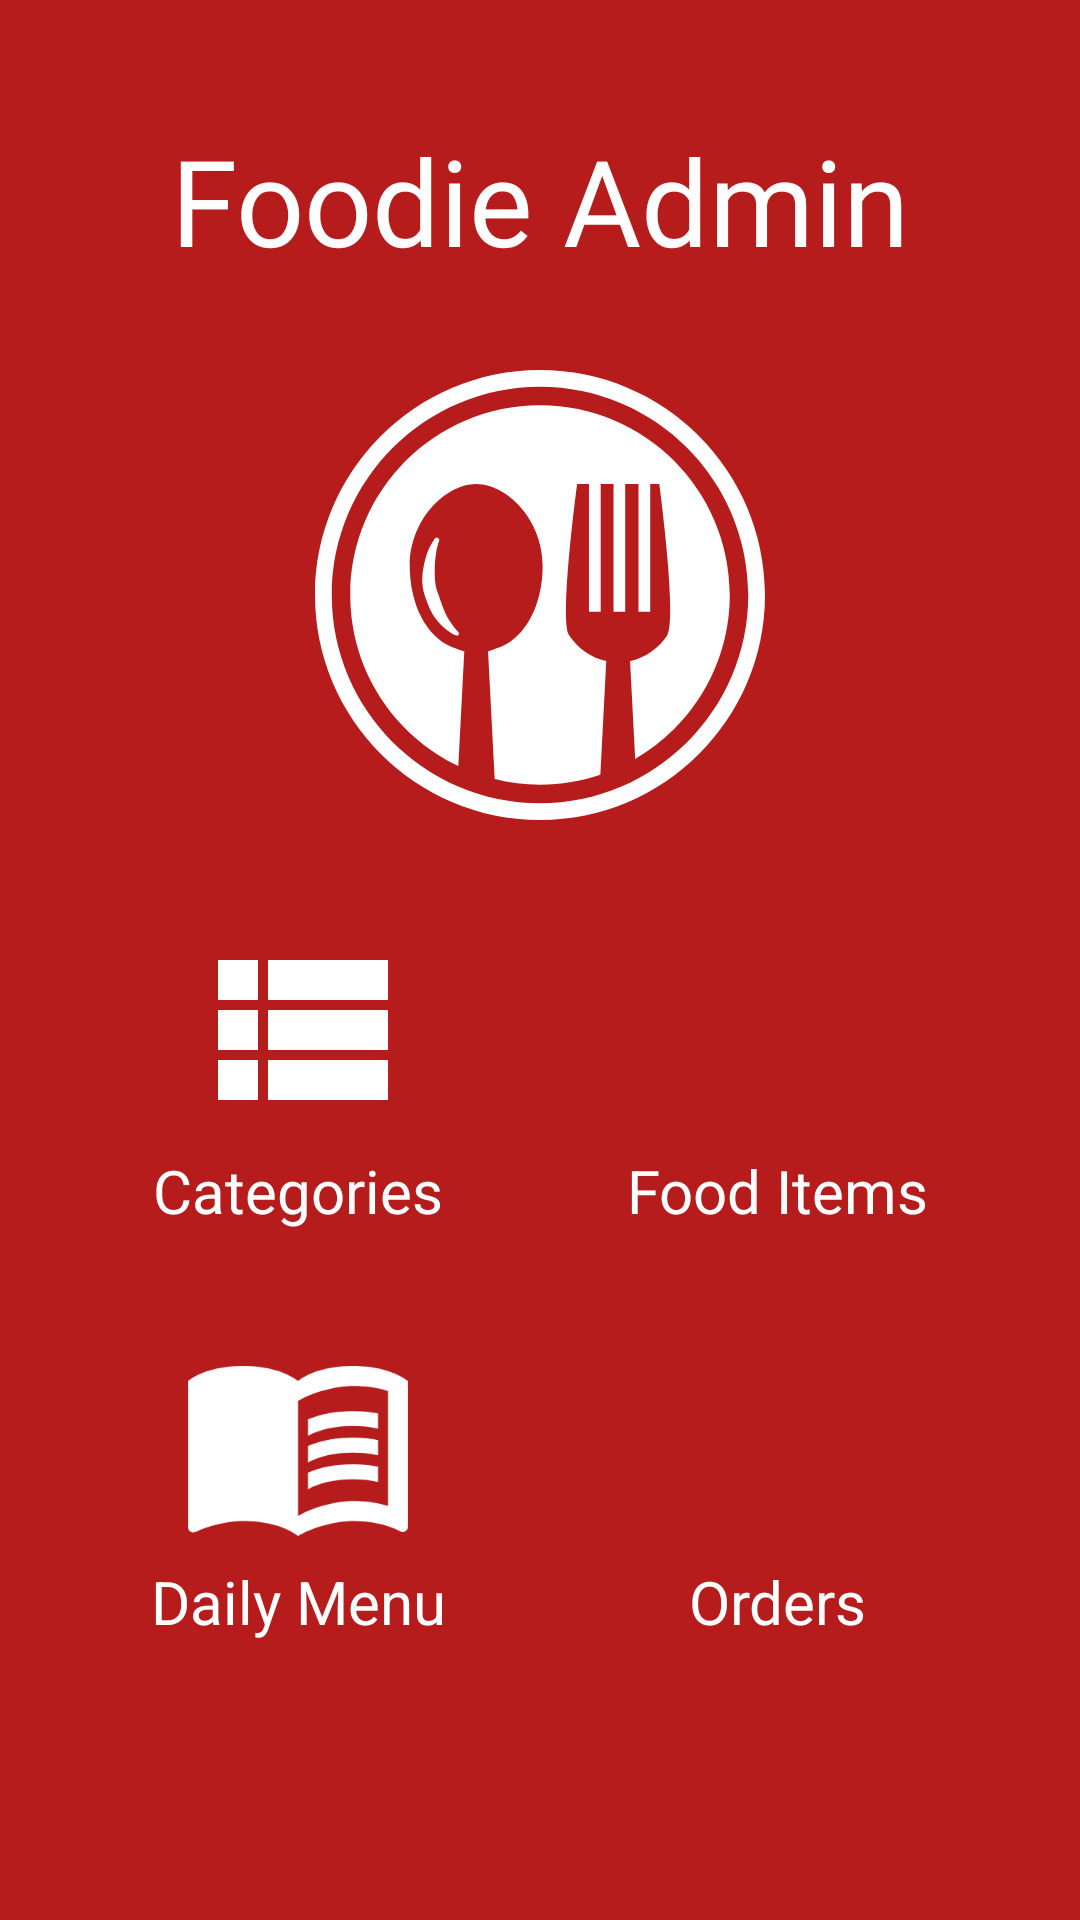

Screen size 1080px x 1920px. Icon name, then its center in pixels as [x,y]:
book: [298,1451]
view list: [303,1030]
